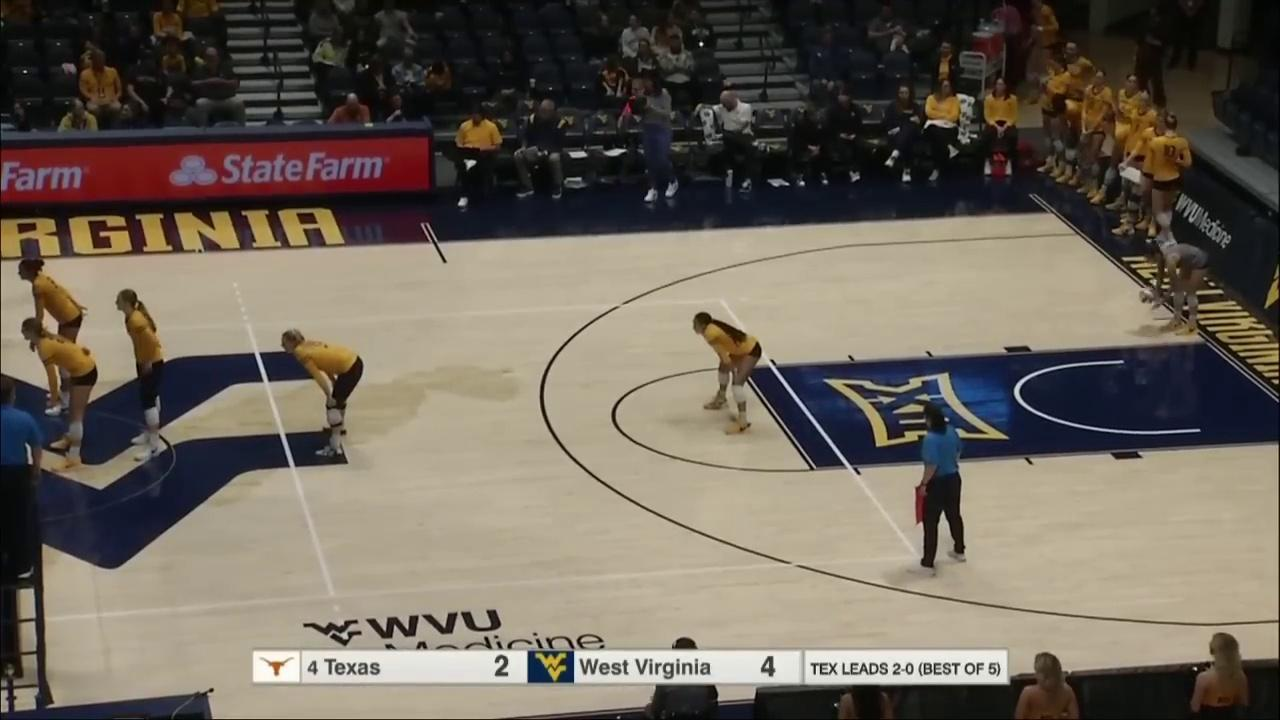player: (22, 318, 98, 469), (283, 329, 364, 458), (20, 257, 87, 412), (691, 313, 763, 432), (117, 289, 165, 458), (1141, 241, 1213, 333)
refree: (914, 403, 969, 577), (0, 377, 44, 581)
